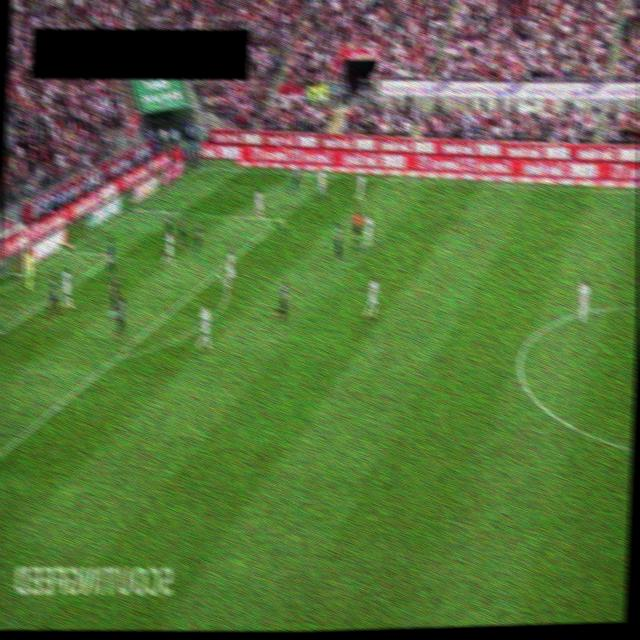bigarea_top_inner: (272, 213, 285, 226)
bigarea_top_outter: (125, 201, 141, 216)
bottom_arc_area_intersection: (107, 349, 126, 365)
corner: (194, 161, 208, 174)
smallarea_top_inner: (108, 248, 121, 260)
smallarea_top_outter: (57, 243, 73, 256)
top_arc_area_intersection: (208, 266, 224, 280)
